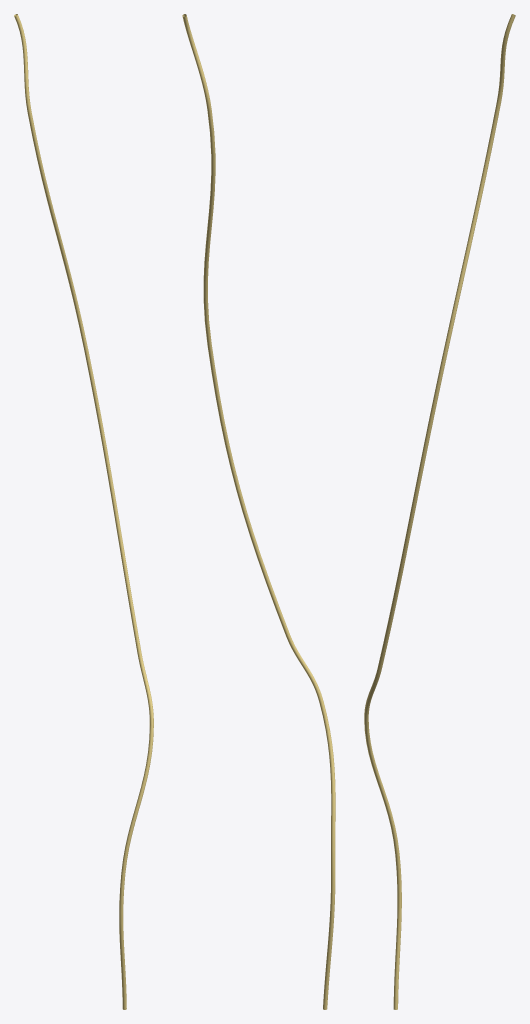
3 views of the same model, side by side, from view 1: azimuth 90°, elevation 25°; view 2: azimuth 150°, elevation 25°; view 3: azimuth 270°, elevation 25° (orthographic). The views are drawn at different scales.
Parts seen in each view (by area): view 1: ZA_d0ae46c7ed7676b5; view 2: ZA_d0ae46c7ed7676b5; view 3: ZA_d0ae46c7ed7676b5.
Part boxes in pixels (x1,y1,x2,y2): ZA_d0ae46c7ed7676b5: (14,14,153,1009); ZA_d0ae46c7ed7676b5: (182,14,335,1009); ZA_d0ae46c7ed7676b5: (364,14,515,1009).
Bounding box in the file's own units: 0.0286 × 0.2564 × 0.034.
